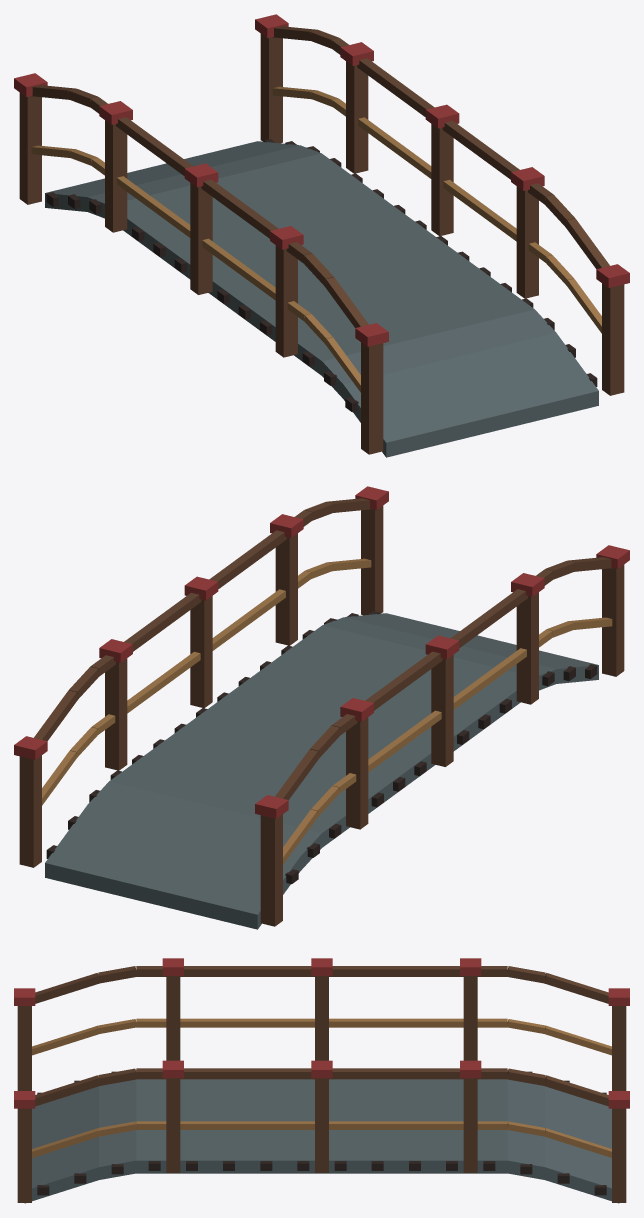
File: PirateCove_Footbridge_Standard.glb
3 views of the same model, one above another, from view 1: azimuth 30°, elevation 25°; view 2: azimuth 150°, elevation 25°; view 3: azimuth 270°, elevation 25° (orthographic). The views are drawn at different scales.
Parts seen in each view (by area): view 1: PirateCove_Footbridge_Standard; view 2: PirateCove_Footbridge_Standard; view 3: PirateCove_Footbridge_Standard.
Part boxes in pixels (x1,y1,x2,y2): PirateCove_Footbridge_Standard: (14, 14, 629, 457); PirateCove_Footbridge_Standard: (14, 486, 629, 929); PirateCove_Footbridge_Standard: (14, 958, 629, 1203).
Bounding box in the file's own units: 2.22 × 1.34 × 5.18.
